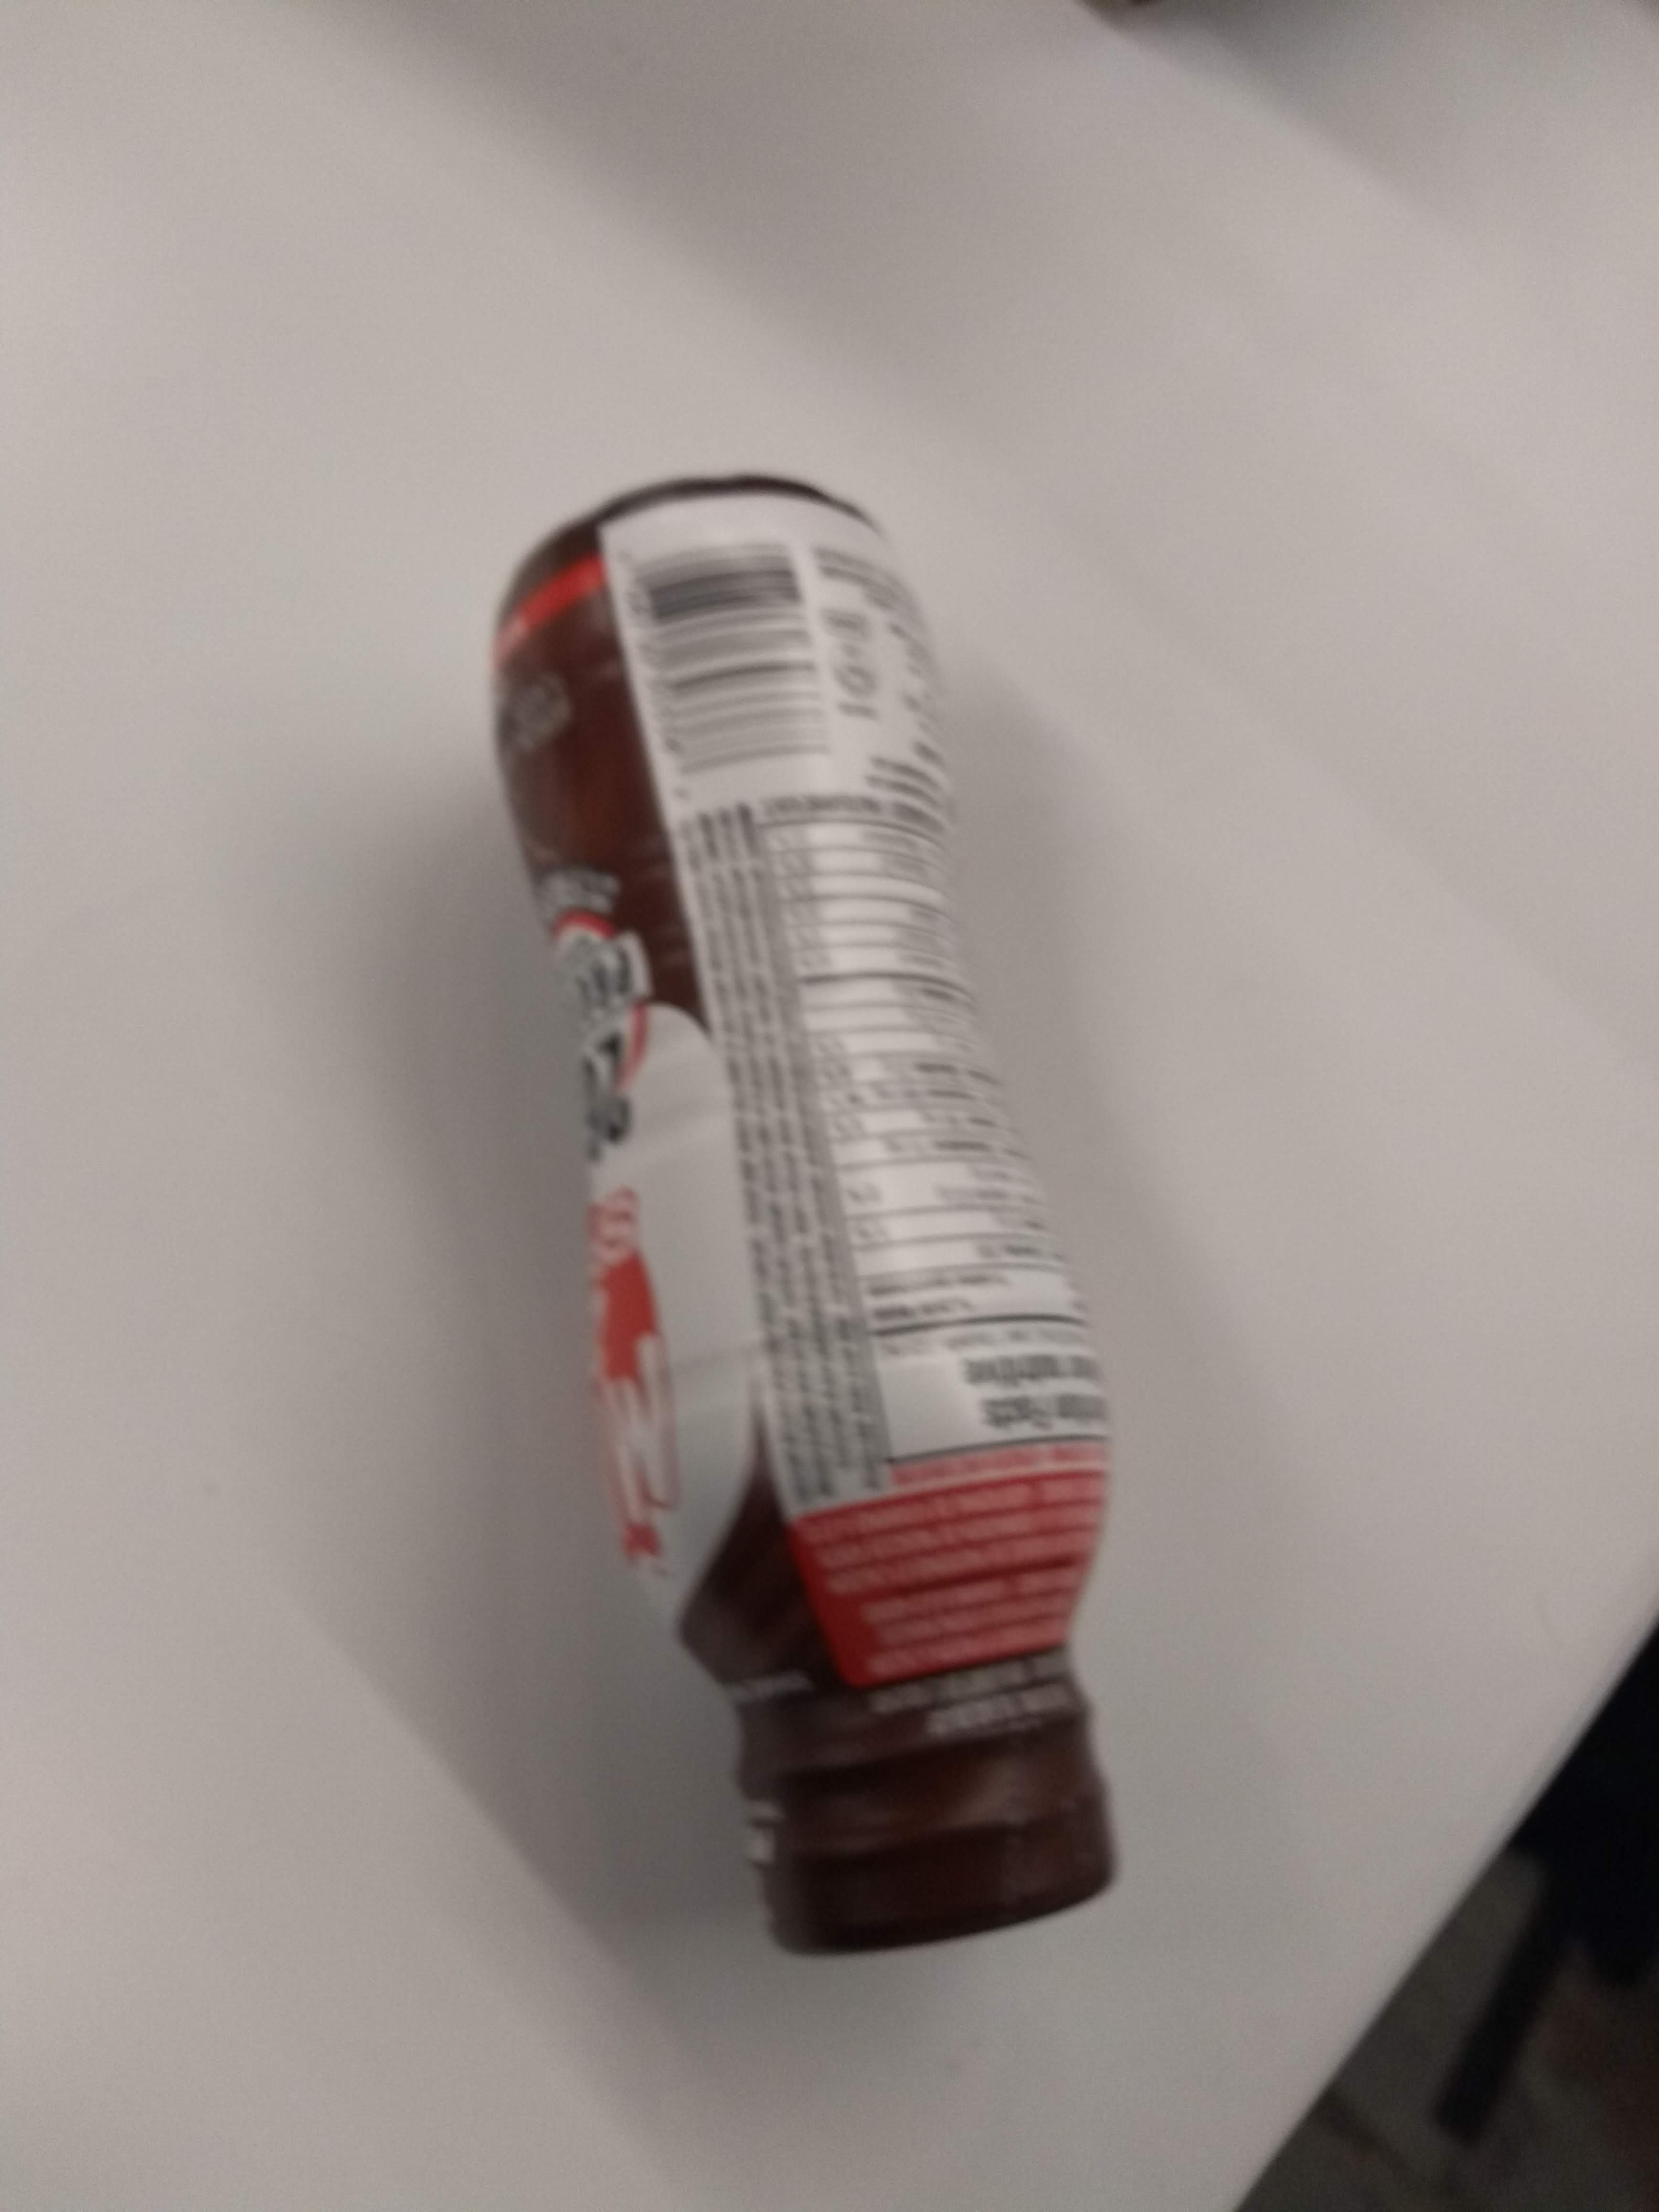chocolate_drink: (465, 449, 1166, 1977)
